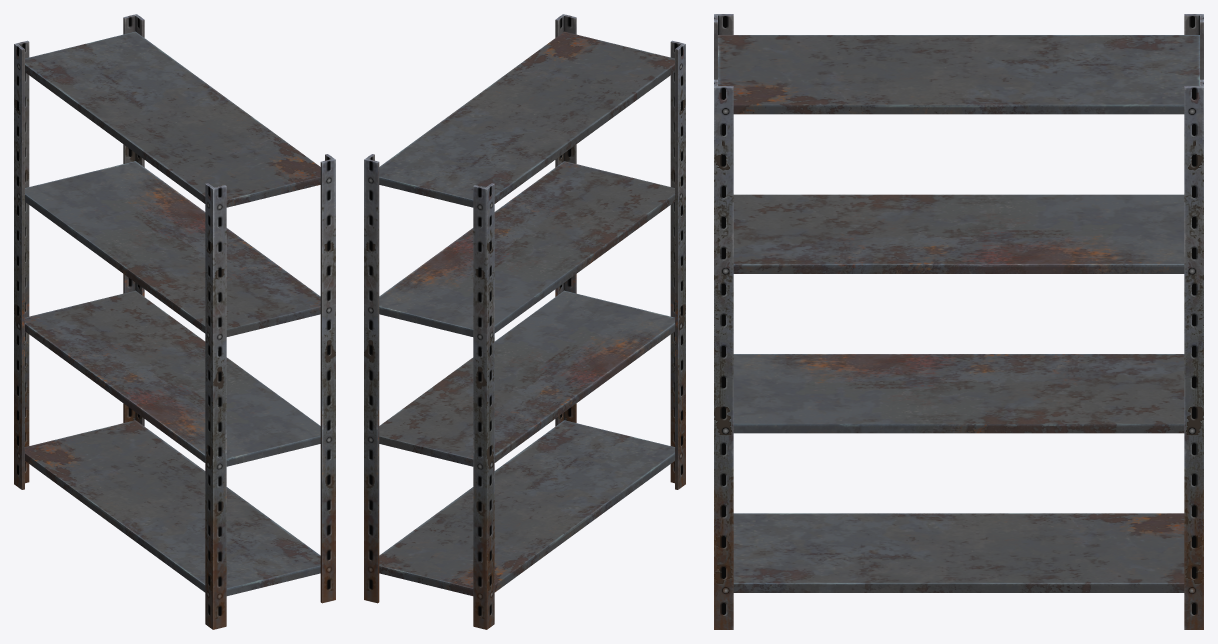
Rendered from metalShelf02_B.fbx.
3 renders of one model, left to right at view 1: azimuth 30°, elevation 25°; view 2: azimuth 150°, elevation 25°; view 3: azimuth 270°, elevation 25°, orthographic. The views are drawn at different scales.
Parts seen in each view (by area): view 1: metalShelf02_B; view 2: metalShelf02_B; view 3: metalShelf02_B.
Boxes of the visible parts, box(x1,y1,x2,y2) form: metalShelf02_B: box(14, 14, 335, 629); metalShelf02_B: box(364, 14, 685, 629); metalShelf02_B: box(714, 14, 1203, 629).
Bounding box in the file's own units: 52.5 × 180 × 147.
